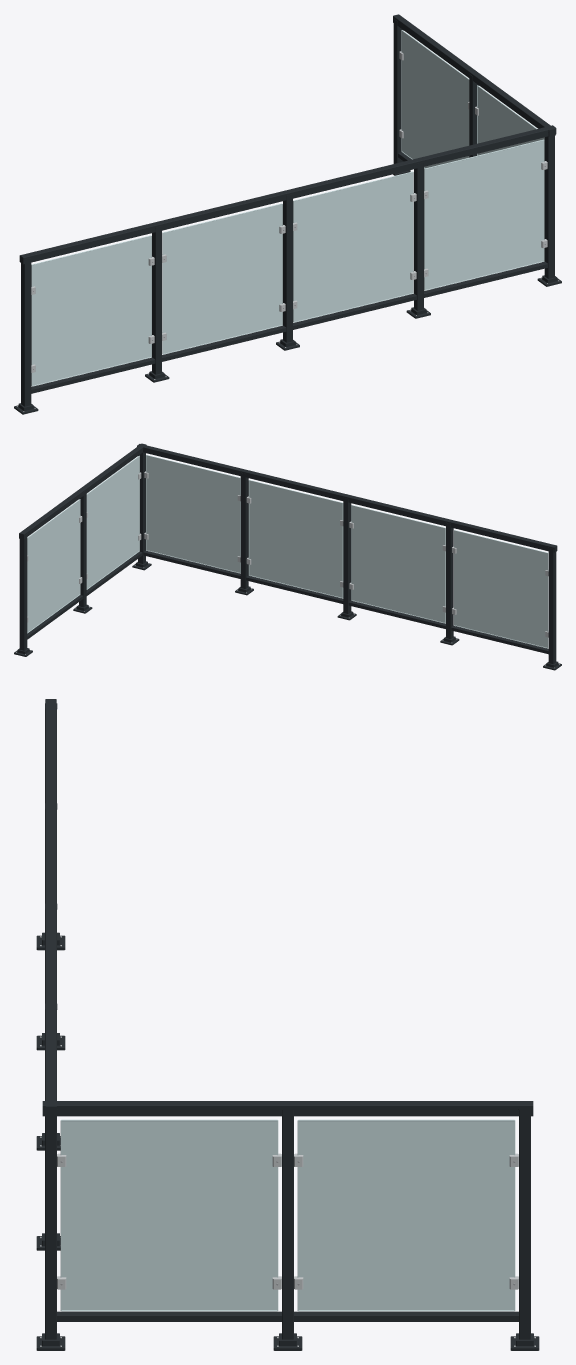
Rendered from black-frame-glass-balcony-railing-04.glb.
3 renders of one model, top to bottom at view 1: azimuth 30°, elevation 25°; view 2: azimuth 150°, elevation 25°; view 3: azimuth 270°, elevation 25°, orthographic. The views are drawn at different scales.
Parts seen in each view (by area): view 1: Clear glass infill, Balcony corner return / Clear glass infill, Rectangular upright, Continuous rectangular handrail, Lower frame rail, Polished glass edges, Balcony corner return / Continuous rectangular handrail, Balcony corner return / Rectangular upright, Glass clamp body, Square mounting foot; view 2: Clear glass infill, Balcony corner return / Clear glass infill, Rectangular upright, Continuous rectangular handrail, Lower frame rail, Polished glass edges, Balcony corner return / Rectangular upright, Balcony corner return / Continuous rectangular handrail, Balcony corner return / Lower frame rail, Balcony corner return / Polished glass edges, Glass clamp body, Square mounting foot; view 3: Balcony corner return / Clear glass infill, Balcony corner return / Continuous rectangular handrail, Balcony corner return / Rectangular upright, Continuous rectangular handrail, Balcony corner return / Lower frame rail, Balcony corner return / Polished glass edges, Rectangular upright, Balcony corner return / Glass clamp body, Square mounting foot.
Part boxes in pixels (x1,y1,x2,y2): Clear glass infill: (32, 140, 543, 385); Balcony corner return / Clear glass infill: (402, 31, 544, 168); Rectangular upright: (21, 136, 554, 406); Continuous rectangular handrail: (19, 125, 556, 264); Lower frame rail: (31, 261, 547, 393); Polished glass edges: (31, 139, 544, 386); Balcony corner return / Continuous rectangular handrail: (393, 14, 555, 136); Balcony corner return / Rectangular upright: (393, 19, 478, 163); Glass clamp body: (31, 161, 547, 372); Square mounting foot: (14, 277, 561, 414); Clear glass infill: (146, 456, 547, 647); Balcony corner return / Clear glass infill: (27, 457, 139, 632); Rectangular upright: (138, 452, 556, 664); Continuous rectangular handrail: (137, 444, 557, 552); Lower frame rail: (143, 550, 548, 654); Polished glass edges: (146, 455, 548, 648); Balcony corner return / Rectangular upright: (19, 491, 86, 650); Balcony corner return / Continuous rectangular handrail: (19, 443, 146, 539); Balcony corner return / Lower frame rail: (27, 551, 142, 639); Balcony corner return / Polished glass edges: (27, 455, 139, 633); Glass clamp body: (144, 471, 548, 637); Square mounting foot: (132, 563, 561, 670); Balcony corner return / Clear glass infill: (61, 1121, 514, 1309); Balcony corner return / Continuous rectangular handrail: (42, 1101, 533, 1116); Balcony corner return / Rectangular upright: (282, 1110, 530, 1339); Continuous rectangular handrail: (45, 699, 56, 1117); Balcony corner return / Lower frame rail: (57, 1311, 518, 1321); Balcony corner return / Polished glass edges: (60, 1119, 515, 1311); Rectangular upright: (45, 710, 56, 1339); Balcony corner return / Glass clamp body: (57, 1153, 518, 1289); Square mounting foot: (36, 935, 65, 1350).
Bounding box in the file's own units: 4.12 × 1.12 × 2.12.
